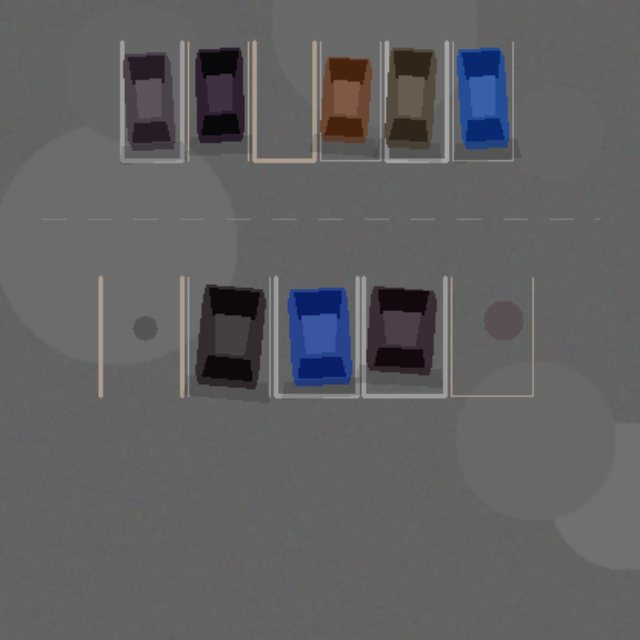space-empty: (100, 277, 182, 395), (451, 277, 532, 395), (254, 42, 314, 160)
space-occupied: (275, 277, 357, 395), (363, 277, 445, 395), (188, 277, 269, 395), (122, 42, 182, 160), (188, 42, 248, 160), (320, 42, 380, 160), (386, 42, 446, 160), (452, 42, 512, 160)
